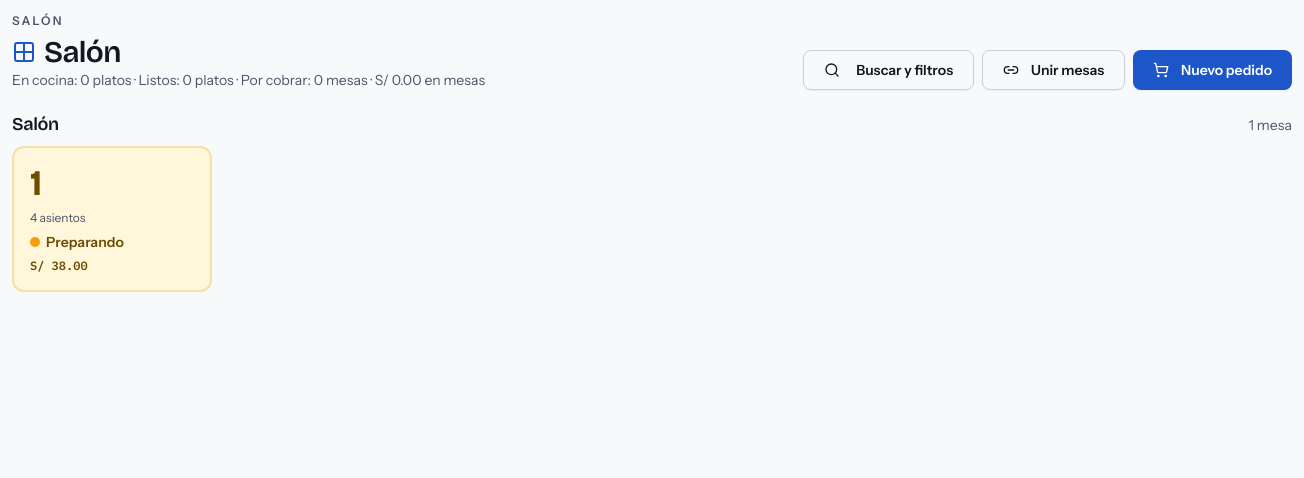
pedido por personas en el salón › un pedido nuevo ofrece la comanda completa
The width and height of the screenshot is (1304, 478).
Step 1. Click the element with test id "mesa-card-1" → click(112, 219), box top-left (12, 146), bottom-right (212, 292)
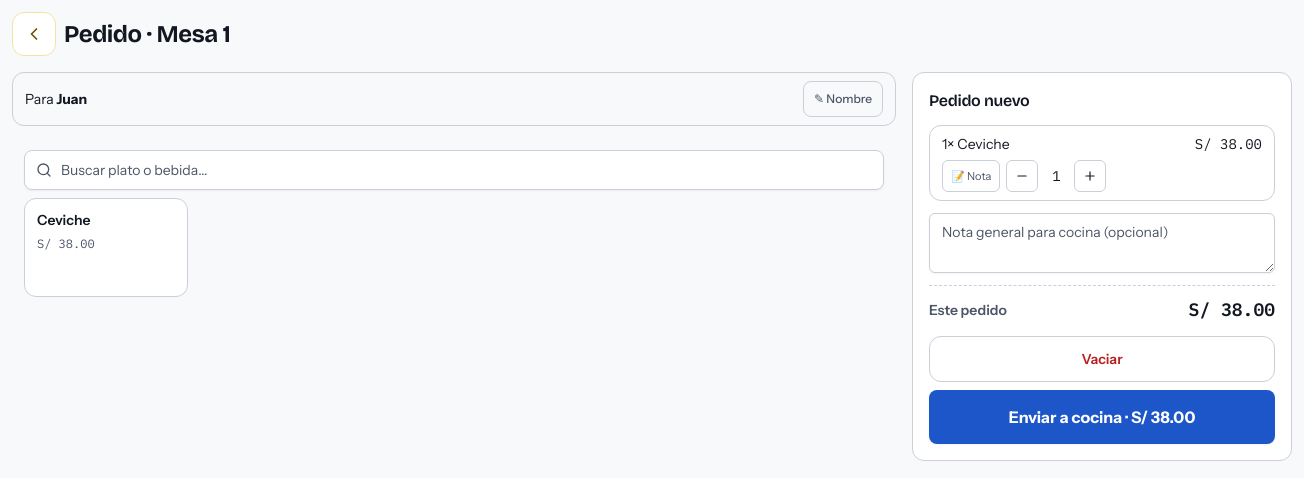
Result: the button with test id "mesa-sheet-enviar-cocina" shows "Enviar a cocina" at top-left (929, 390), bottom-right (1275, 444)
